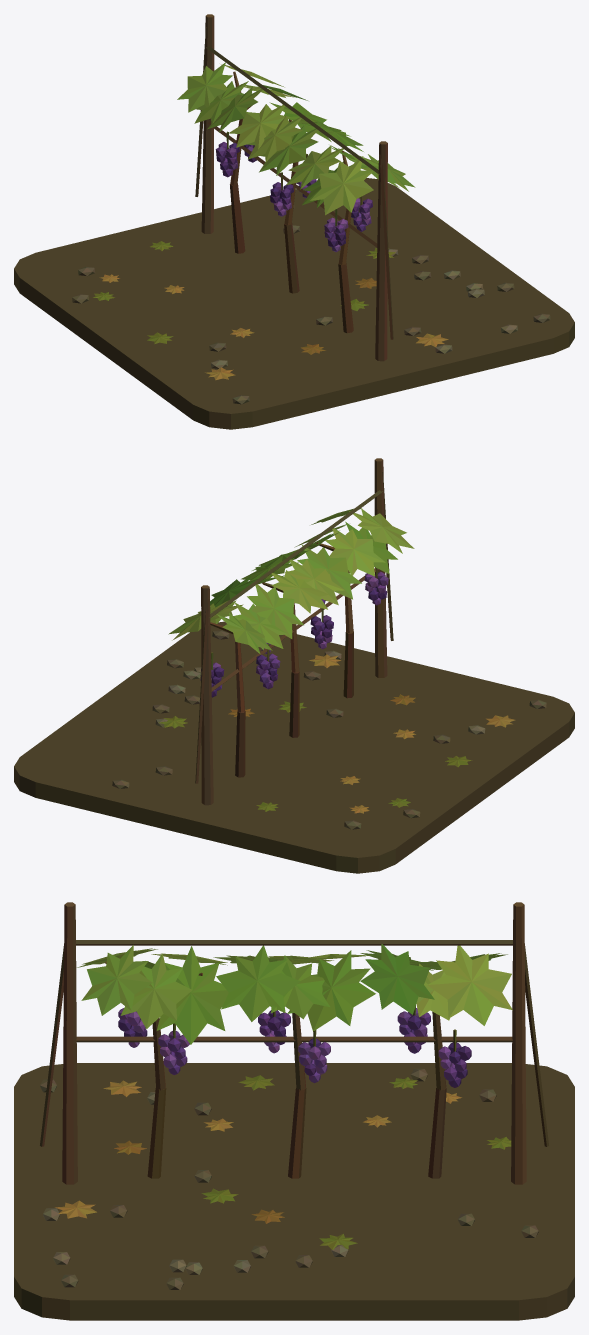
Rendered from vignoble_petit.glb.
3 renders of one model, top to bottom at view 1: azimuth 30°, elevation 25°; view 2: azimuth 150°, elevation 25°; view 3: azimuth 270°, elevation 25°, orthographic. The views are drawn at different scales.
Visible parts, largest first — view 1: Sous_bois, Feuilles_et_grappes, Ceps_et_palissage; view 2: Sous_bois, Feuilles_et_grappes, Ceps_et_palissage; view 3: Sous_bois, Feuilles_et_grappes, Ceps_et_palissage.
Boxes of the visible parts, box(x1,y1,x2,y2) form: Sous_bois: box(14, 178, 574, 429); Feuilles_et_grappes: box(93, 62, 448, 380); Ceps_et_palissage: box(195, 14, 393, 361); Sous_bois: box(14, 621, 574, 873); Feuilles_et_grappes: box(159, 508, 515, 813); Ceps_et_palissage: box(195, 458, 393, 805); Sous_bois: box(14, 1063, 574, 1320); Feuilles_et_grappes: box(55, 944, 512, 1249); Ceps_et_palissage: box(40, 902, 548, 1184).
Bounding box in the file's own units: 0.5 × 0.294 × 0.5.
